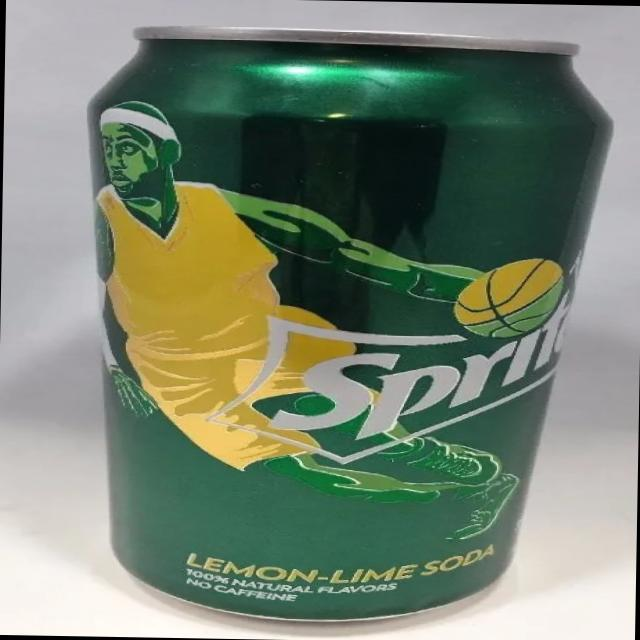sprite: (38, 23, 617, 640)
